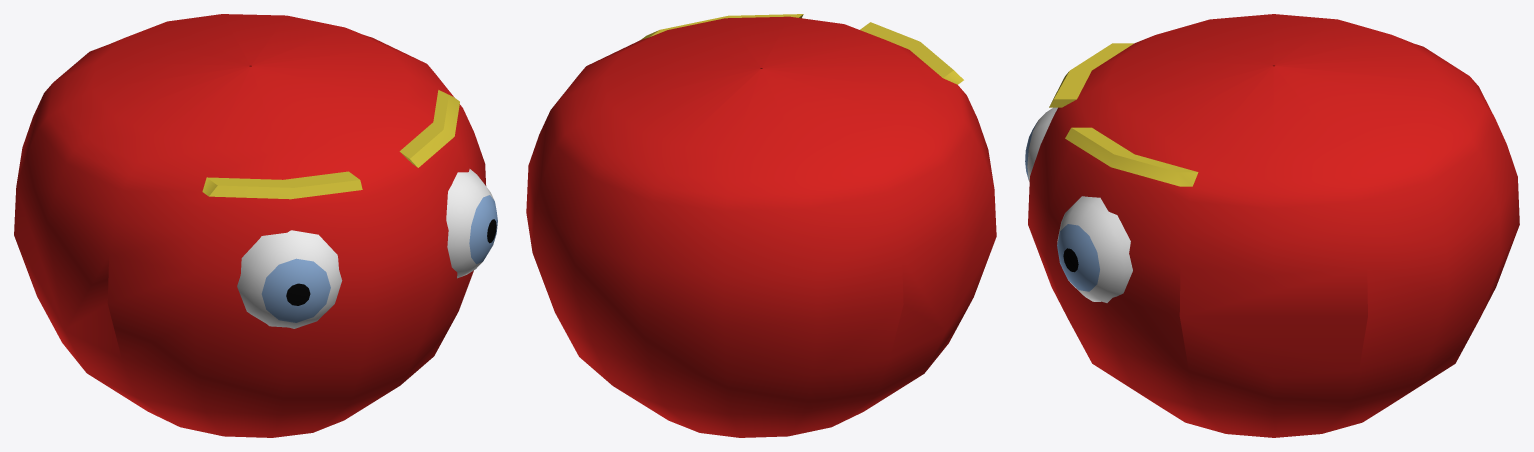
The model's file is tomate minion.fbx.
The picture shows the model from 3 angles, left to right: view 1: azimuth 30°, elevation 25°; view 2: azimuth 150°, elevation 25°; view 3: azimuth 270°, elevation 25°; orthographic projection.
Parts seen in each view (by area): view 1: Circle; view 2: Circle; view 3: Circle.
Boxes of the visible parts, left/top/right/bottom form: Circle: left=14, top=14, right=497, bottom=437; Circle: left=526, top=14, right=996, bottom=437; Circle: left=1025, top=14, right=1519, bottom=437.
Size of the model in its own units: 738 by 606 by 772.
